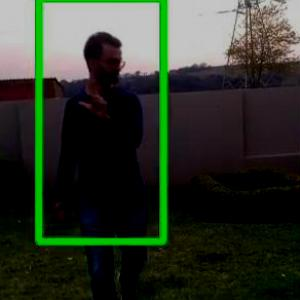land_hand: (76, 77, 112, 125)
